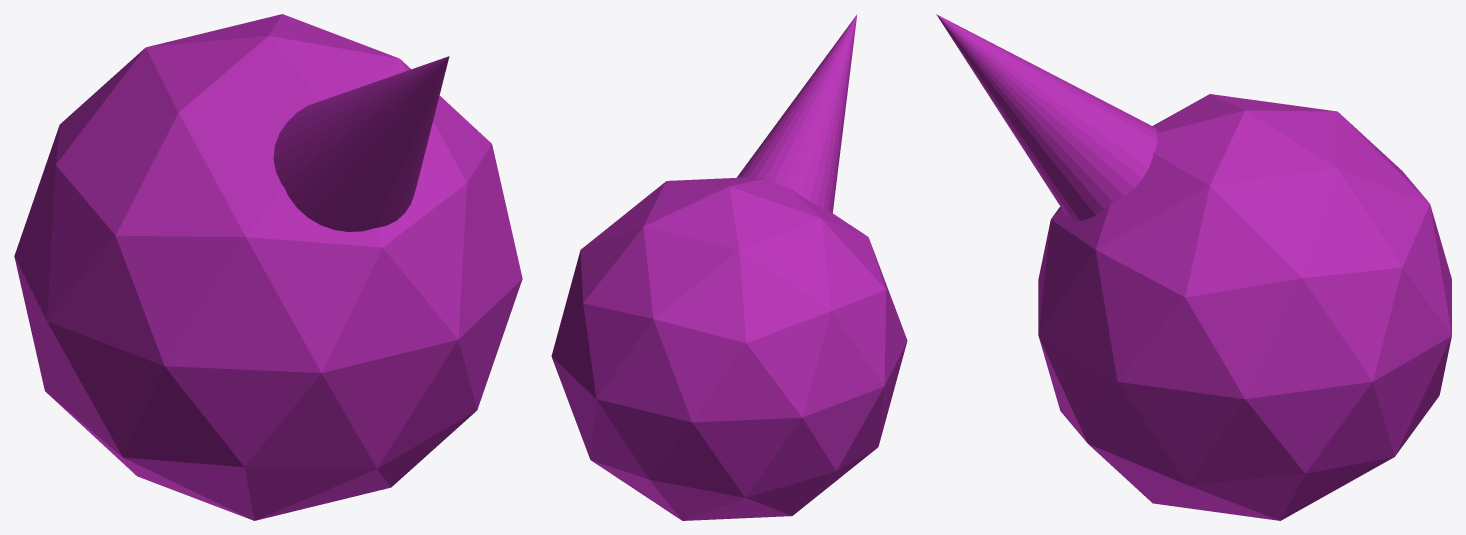
Rendered from Enemy01.fbx.
The picture shows the model from 3 angles, left to right: view 1: azimuth 30°, elevation 25°; view 2: azimuth 150°, elevation 25°; view 3: azimuth 270°, elevation 25°; orthographic projection. The views are drawn at different scales.
Visible parts, largest first — view 1: Icosphere.001, Cone.001; view 2: Icosphere.001, Cone.001; view 3: Icosphere.001, Cone.001.
Boxes of the visible parts, x1,y1,x2,y2 form: Icosphere.001: (14, 14, 522, 520); Cone.001: (273, 56, 449, 231); Icosphere.001: (551, 177, 907, 520); Cone.001: (736, 14, 857, 212); Icosphere.001: (1038, 94, 1451, 520); Cone.001: (936, 14, 1157, 220).
Size of the model in its own units: 207 by 258 by 246.
1 material, 1 textured.
